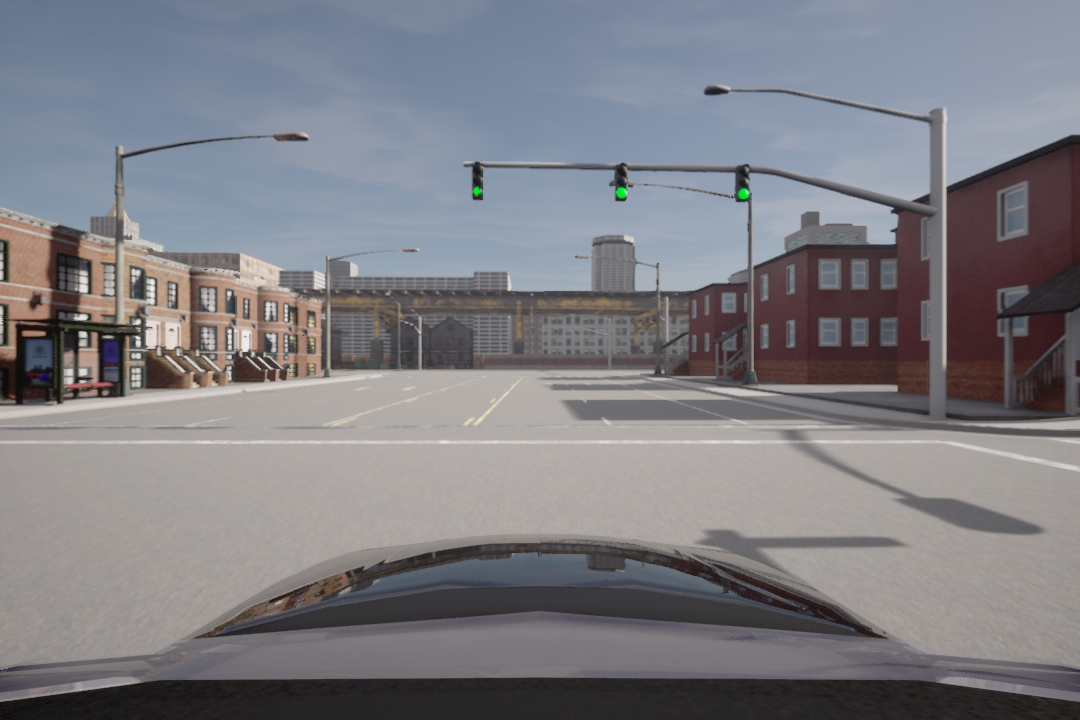TrafficLight: (733, 164, 754, 206), (614, 164, 630, 204), (471, 161, 487, 198)
